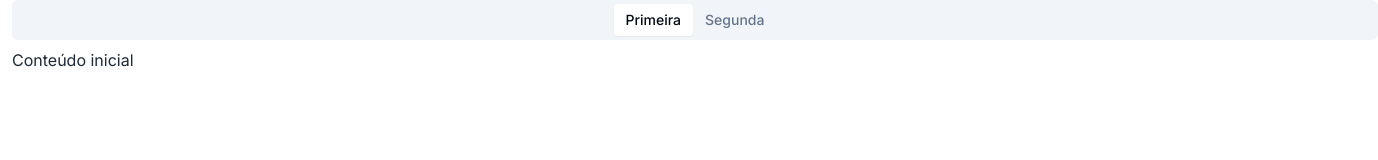
Scenario: Tabs › renderiza os gatilhos e alterna o conteúdo ativo
Check: the element named "Etapas do formulário" is shown, box [12,0,1377,40]
Check: the text "Conteúdo inicial" is shown, box [12,50,134,70]
Click the tab "Segunda" at (735, 20), box [693,4,776,36]
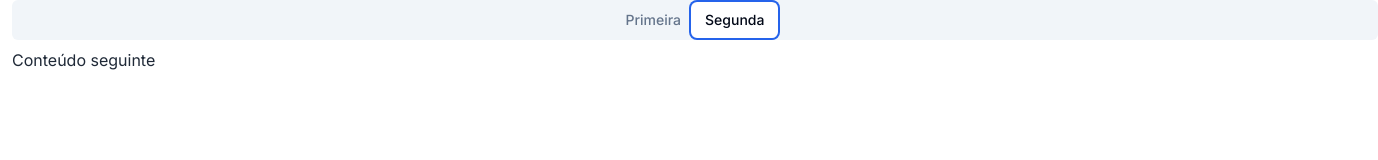
Check: the text "Conteúdo seguinte" is shown, box [12,50,155,70]
